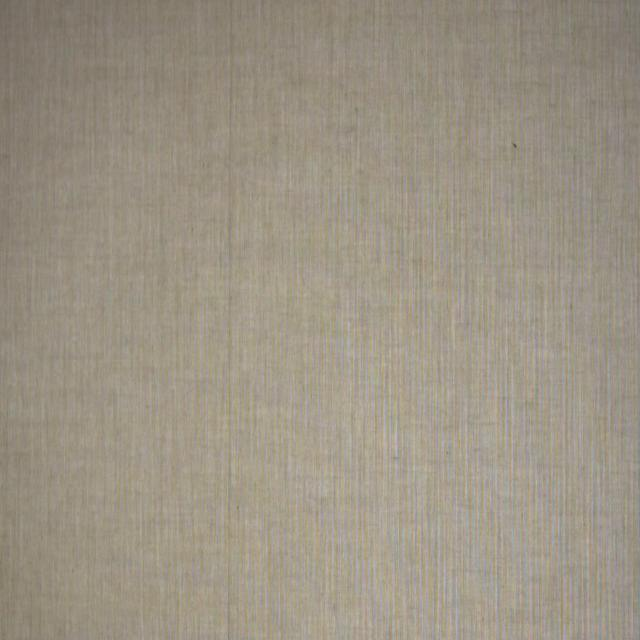dirty: (512, 143, 518, 151)
